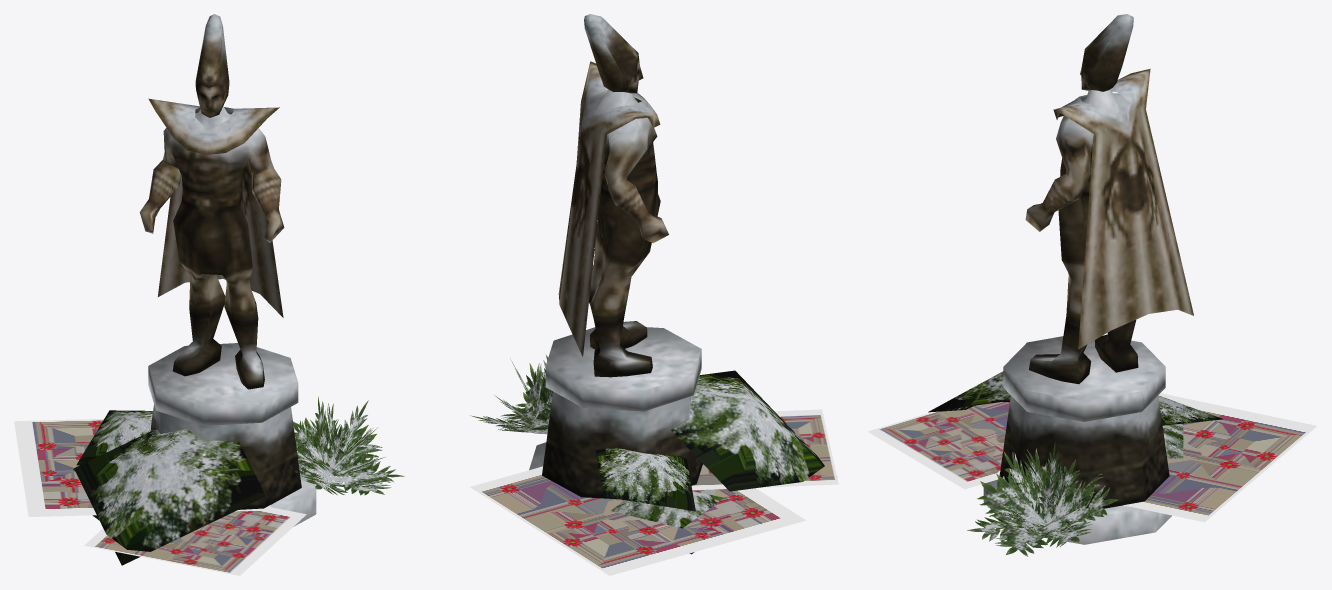
The model's file is battlemage_statue.dae.
The picture shows the model from 3 angles, left to right: view 1: azimuth 30°, elevation 25°; view 2: azimuth 150°, elevation 25°; view 3: azimuth 270°, elevation 25°; orthographic projection. The views are drawn at different scales.
Parts seen in each view (by area): view 1: Untitled; view 2: Untitled; view 3: Untitled.
Boxes of the visible parts, x1,y1,x2,y2 form: Untitled: (14, 14, 404, 575); Untitled: (470, 14, 838, 575); Untitled: (867, 14, 1316, 556).
Size of the model in its own units: 2.71 by 2.77 by 3.35.
6 materials, 6 textured.
